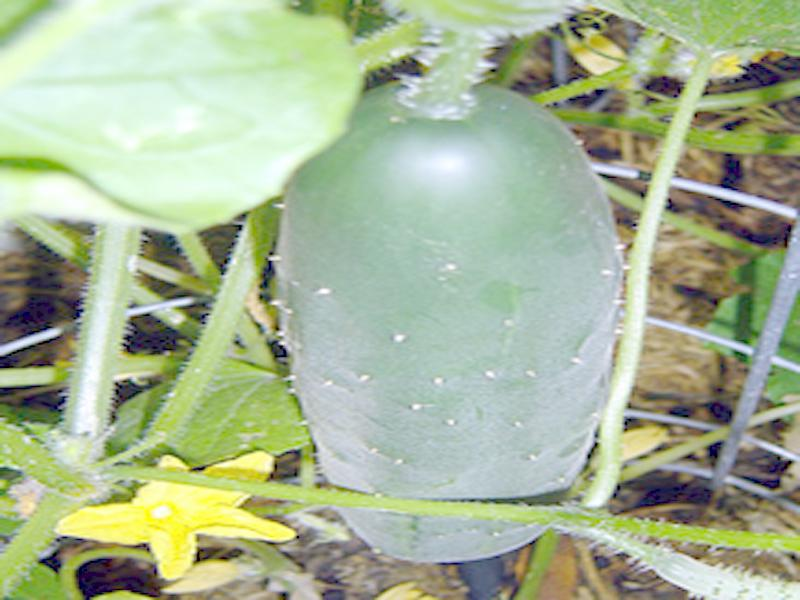Cucumber: (276, 73, 619, 558)
